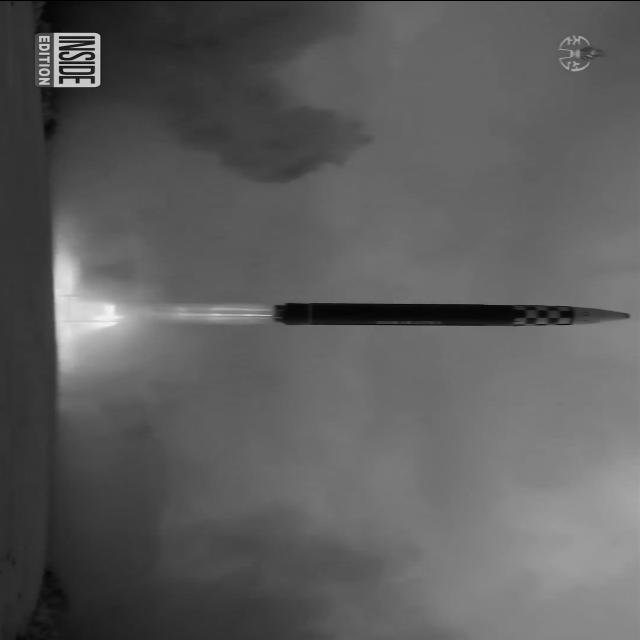missile: (259, 296, 640, 332)
